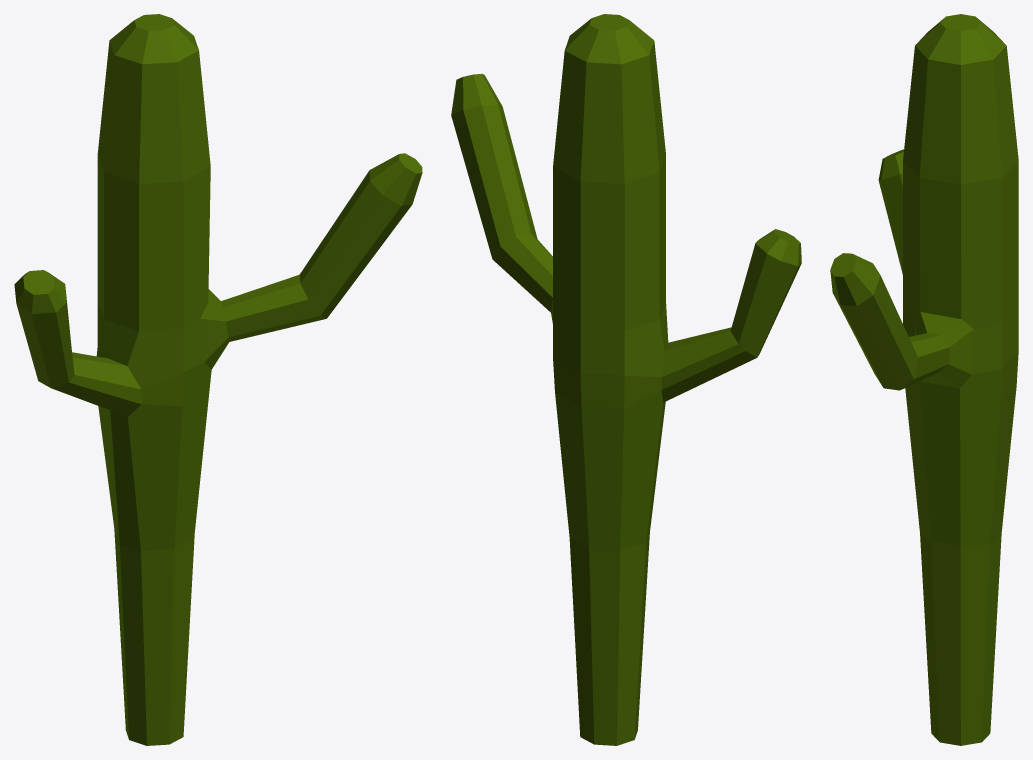
Rendered from 005_Cactus_001.fbx.
3 renders of one model, left to right at view 1: azimuth 30°, elevation 25°; view 2: azimuth 150°, elevation 25°; view 3: azimuth 270°, elevation 25°, orthographic.
Visible parts, largest first — view 1: Cactus 001; view 2: Cactus 001; view 3: Cactus 001.
Boxes of the visible parts, x1,y1,x2,y2 form: Cactus 001: (14, 14, 422, 745); Cactus 001: (451, 14, 801, 745); Cactus 001: (830, 14, 1018, 745).
Size of the model in its own units: 102 by 186 by 44.66.
